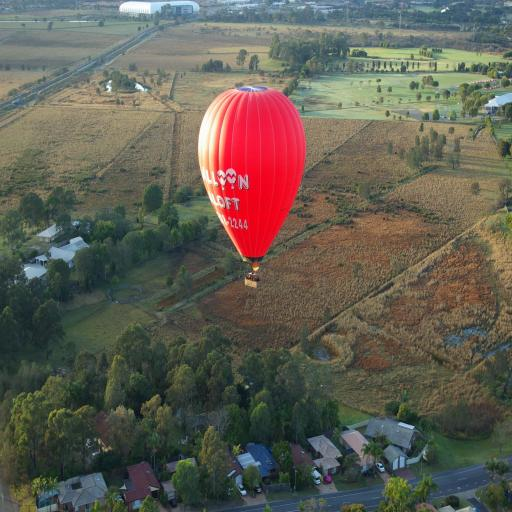hot air ballon: (198, 83, 307, 289)
